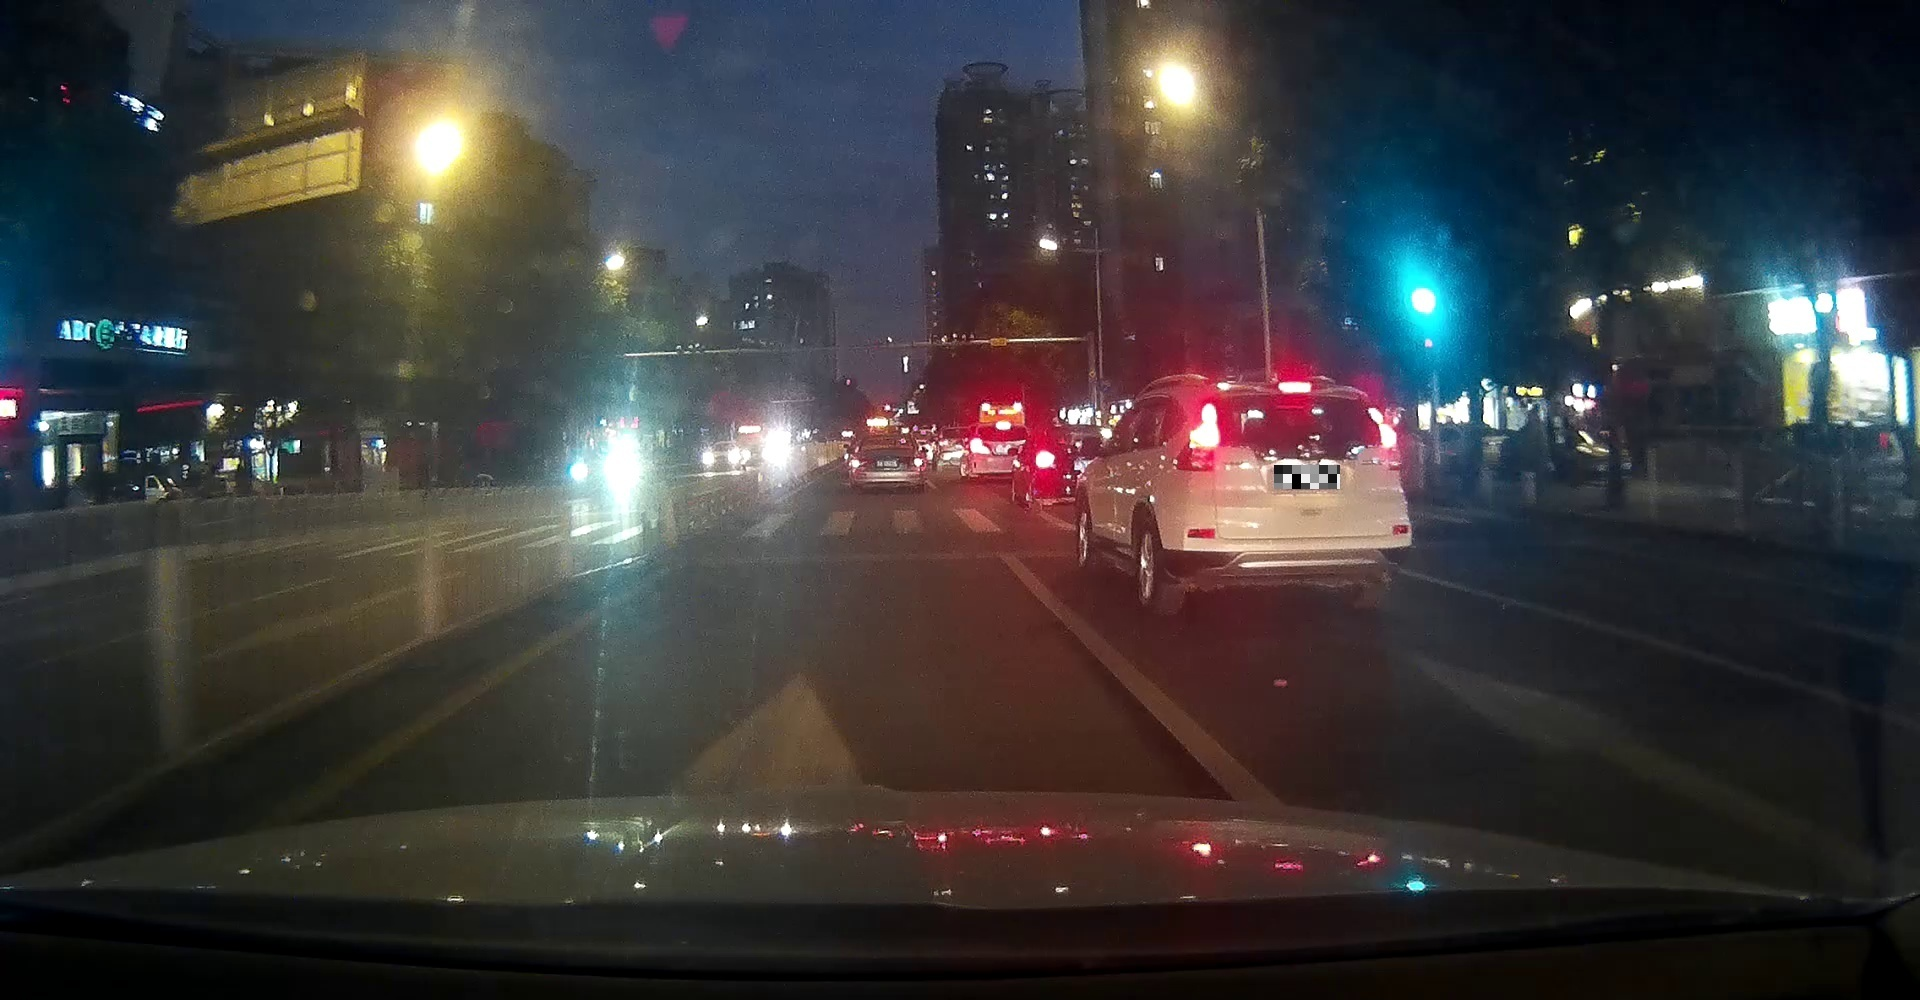L_light: (1189, 402, 1219, 449), (850, 459, 861, 470)
R_light: (1368, 407, 1398, 449), (913, 457, 922, 467)
T_light: (1277, 382, 1312, 393), (883, 438, 893, 440)
night-brake: (1175, 381, 1411, 617)
night-no: (850, 435, 924, 494)
plate_1: (1274, 464, 1340, 489)
